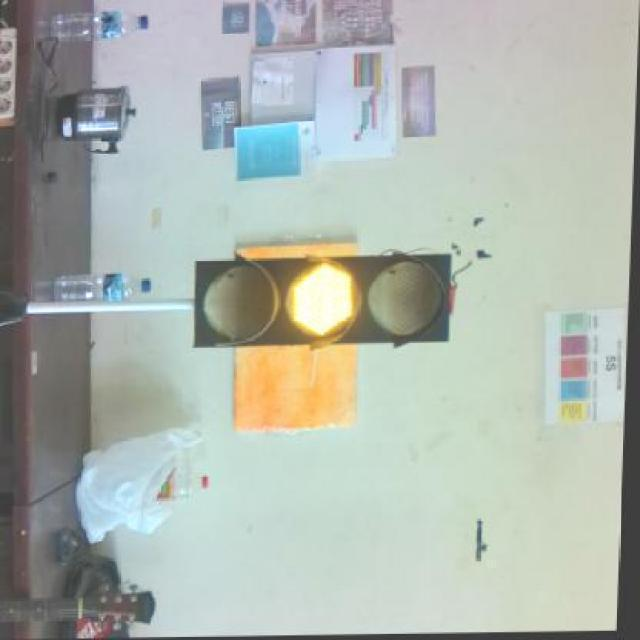yellow_light: (195, 243, 470, 347)
